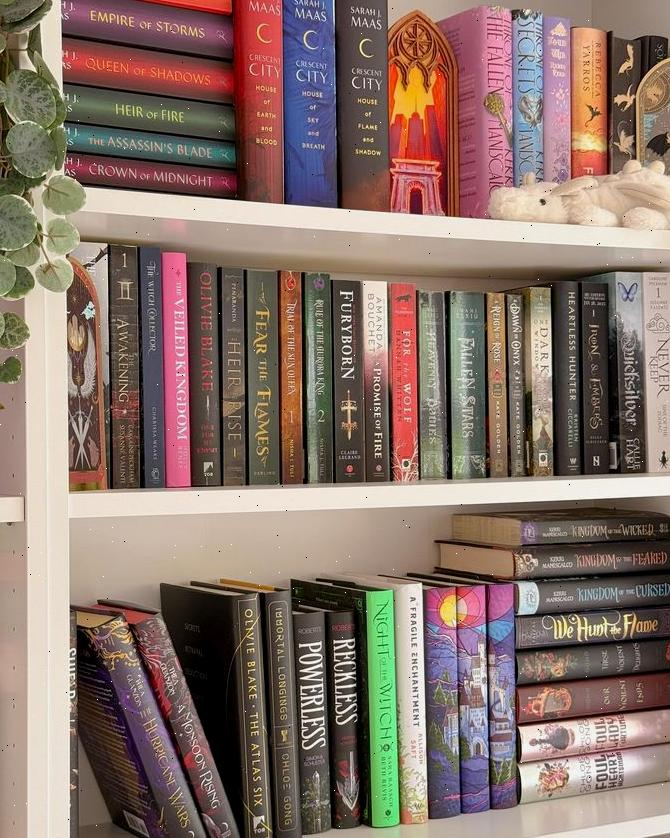book: (229, 0, 285, 201), (262, 582, 301, 838), (66, 44, 237, 98), (422, 582, 460, 822), (292, 604, 331, 836), (326, 605, 363, 834), (108, 246, 142, 482), (485, 579, 519, 812), (188, 262, 222, 482), (448, 291, 484, 483), (161, 253, 191, 482), (331, 280, 365, 482), (245, 269, 277, 480), (138, 248, 166, 481), (303, 274, 334, 480), (552, 282, 584, 473), (220, 266, 248, 480), (389, 284, 419, 482), (579, 280, 610, 470), (570, 27, 608, 179), (360, 281, 389, 479), (526, 285, 556, 473), (417, 289, 446, 480), (278, 272, 304, 481), (485, 293, 508, 477), (504, 292, 527, 474), (486, 9, 506, 207), (523, 655, 670, 670)
